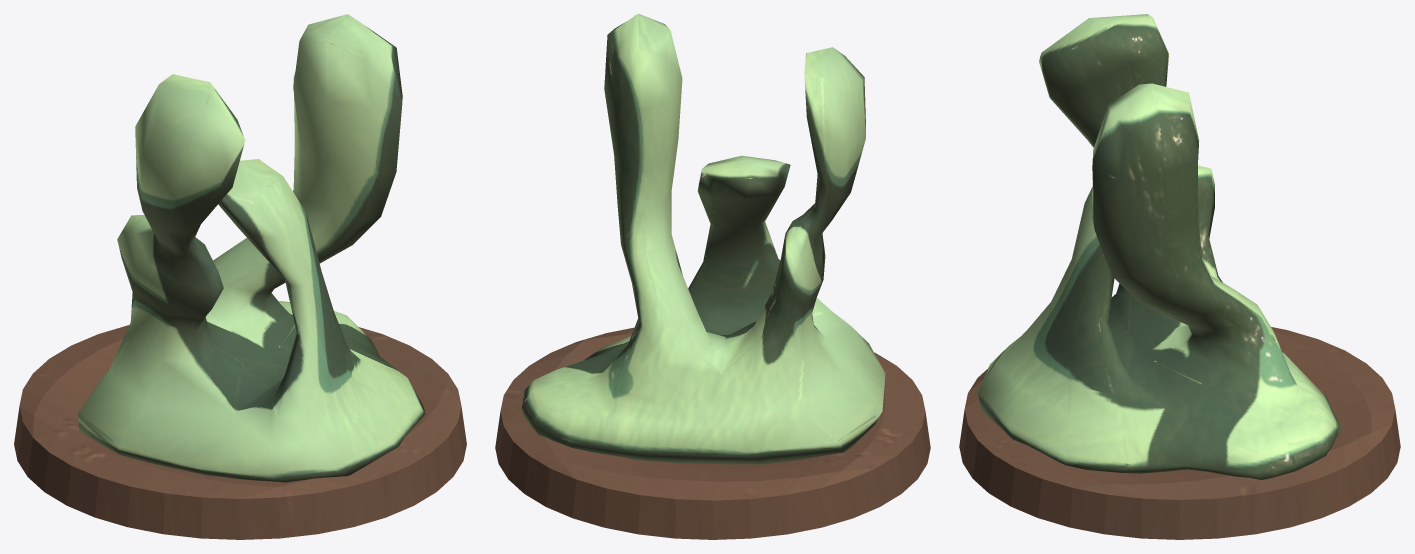
Rendered from OpuntiaCactus.glb.
The picture shows the model from 3 angles, left to right: view 1: azimuth 30°, elevation 25°; view 2: azimuth 150°, elevation 25°; view 3: azimuth 270°, elevation 25°; orthographic projection. The views are drawn at different scales.
Visible parts, largest first — view 1: Cylinder.001; view 2: Cylinder.001; view 3: Cylinder.001.
Part boxes in pixels (left/top/right/bottom): Cylinder.001: left=14, top=14, right=466, bottom=539; Cylinder.001: left=495, top=14, right=930, bottom=539; Cylinder.001: left=959, top=14, right=1400, bottom=539.
Size of what is drawn, in the model's own units: 0.8576 by 0.8733 by 0.8576.
2 materials, 2 textured.
